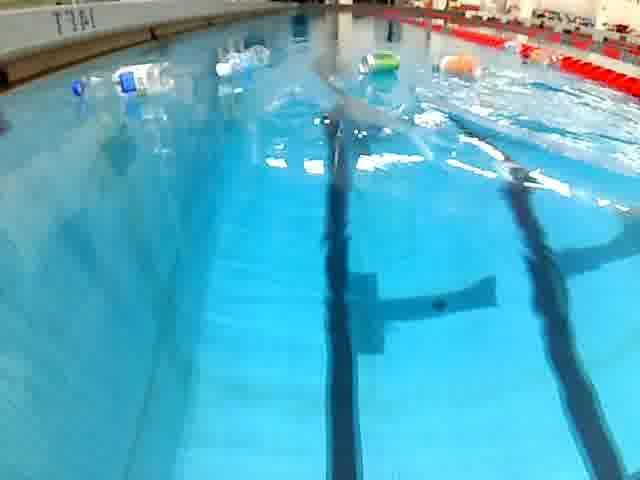Bottle: (66, 58, 182, 106), (208, 41, 275, 87), (427, 51, 491, 83)
Can: (354, 47, 406, 80)
